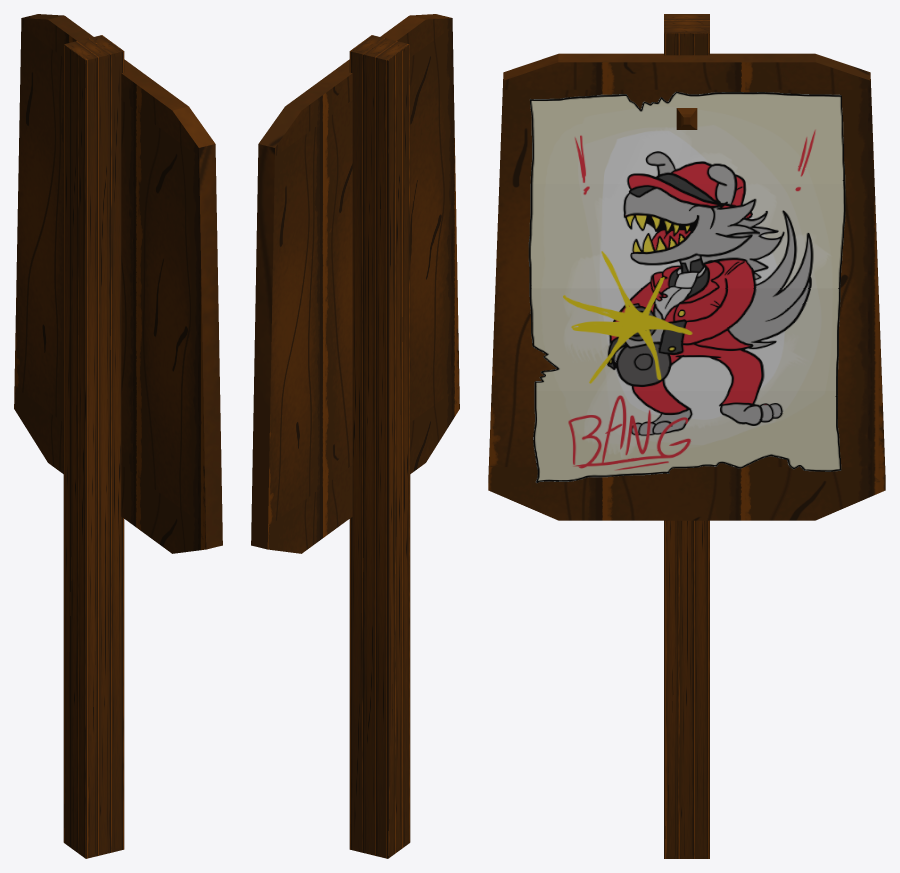
File: EnemyOne_Shoot.fbx
3 renders of one model, left to right at view 1: azimuth 30°, elevation 25°; view 2: azimuth 150°, elevation 25°; view 3: azimuth 270°, elevation 25°, orthographic. The views are drawn at different scales.
Parts seen in each view (by area): view 1: Board; view 2: Board; view 3: Poster, Board.
Part boxes in pixels (box(x1,y1,x2,y2)): Board: box(14, 14, 222, 858); Board: box(251, 14, 459, 858); Poster: box(528, 91, 845, 483); Board: box(488, 14, 885, 858).
Size of the model in its own units: 5.42 by 69.44 by 30.31.
Materials: 2 (2 with a texture image).
